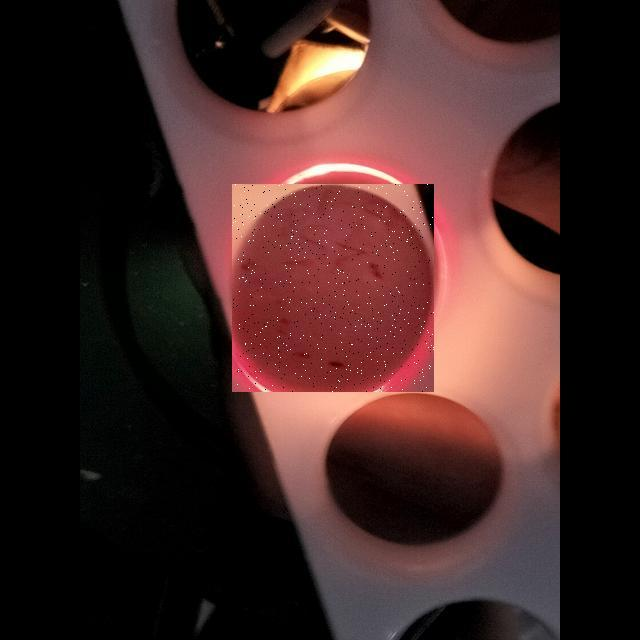Fertile: (232, 184, 434, 392)
